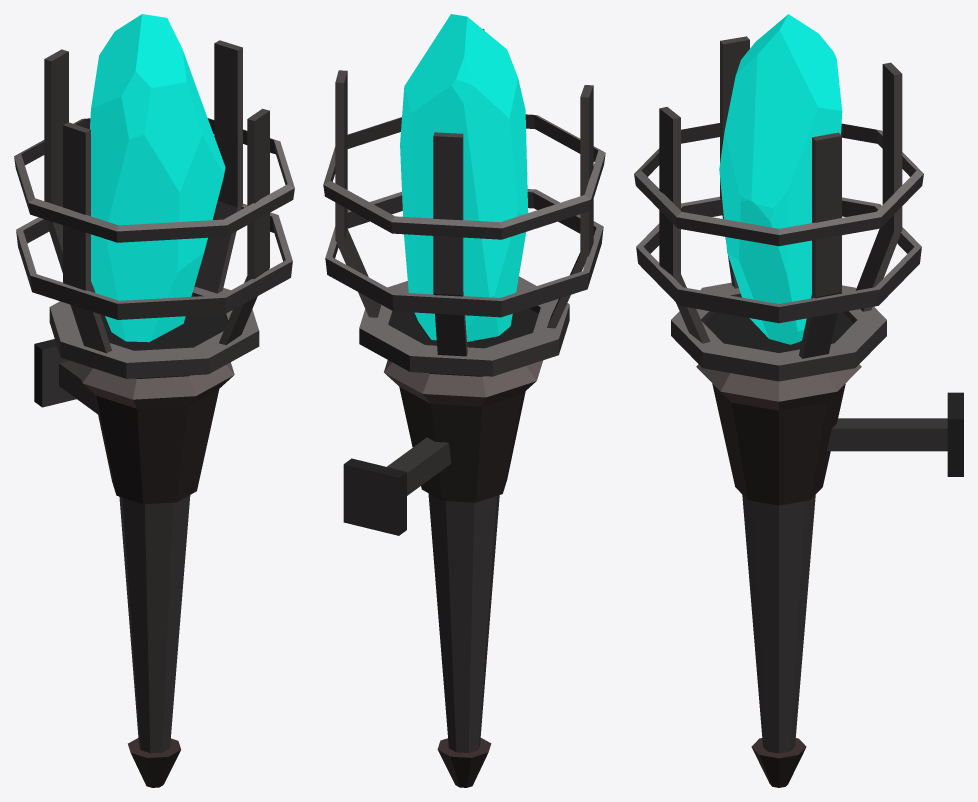
Rendered from Torch_01.glb.
The picture shows the model from 3 angles, left to right: view 1: azimuth 30°, elevation 25°; view 2: azimuth 150°, elevation 25°; view 3: azimuth 270°, elevation 25°; orthographic projection.
Visible parts, largest first — view 1: Torch_01; view 2: Torch_01; view 3: Torch_01.
Part boxes in pixels (left/top/right/bottom): Torch_01: left=14, top=14, right=294, bottom=787; Torch_01: left=323, top=14, right=605, bottom=787; Torch_01: left=634, top=14, right=963, bottom=787.
Size of what is drawn, in the model's own units: 0.4037 by 1.18 by 0.4593.
Materials: 2 (2 with a texture image).
